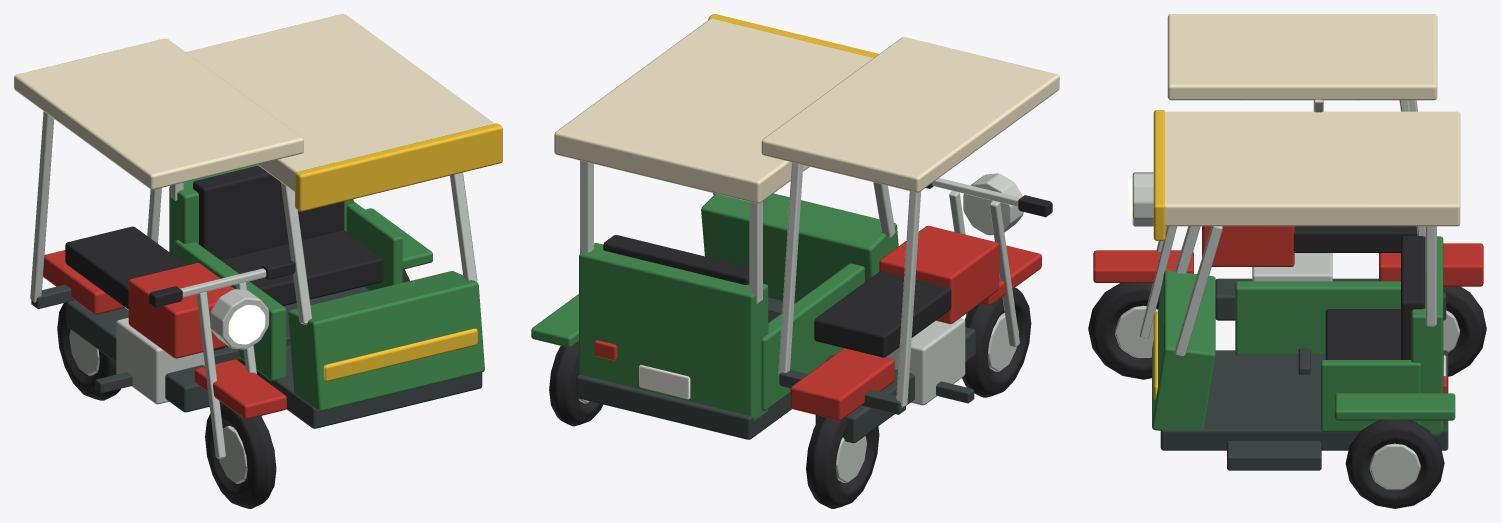
Rendered from prop_tricycle.glb.
3 renders of one model, left to right at view 1: azimuth 30°, elevation 25°; view 2: azimuth 150°, elevation 25°; view 3: azimuth 270°, elevation 25°, orthographic. The views are drawn at different scales.
Visible parts, largest first — view 1: prop_tricycle; view 2: prop_tricycle; view 3: prop_tricycle.
Part boxes in pixels (x1=…): prop_tricycle: x1=14, y1=14, x2=502, y2=508; prop_tricycle: x1=531, y1=14, x2=1059, y2=508; prop_tricycle: x1=1088, y1=14, x2=1486, y2=508.
Bounding box in the file's own units: 2.06 × 1.81 × 1.98.
